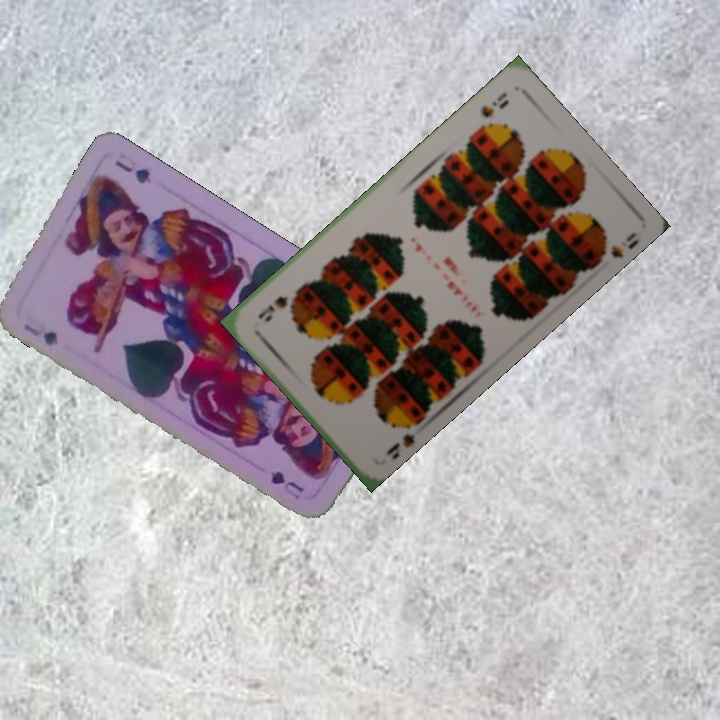GU: (19, 319, 61, 348)
S9: (380, 414, 422, 461), (477, 88, 512, 120)
